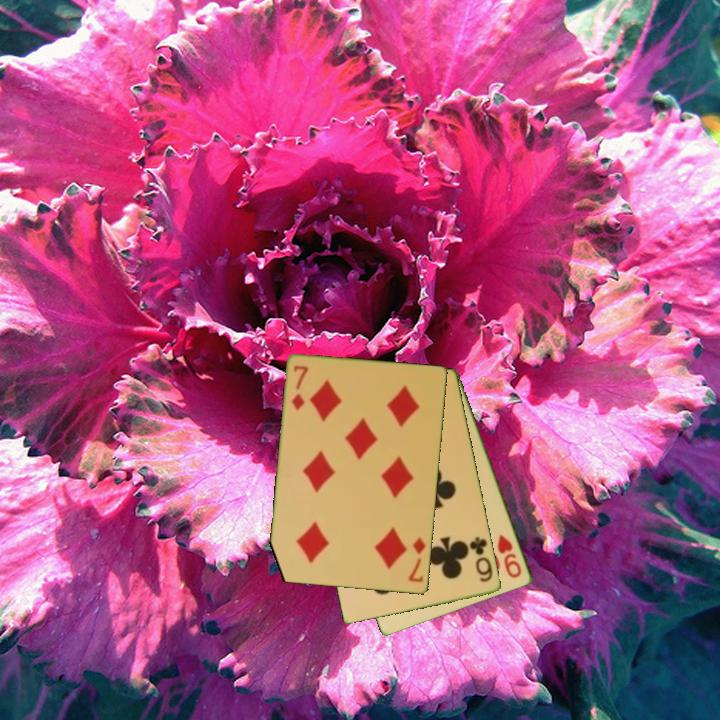6c: (466, 533, 496, 585)
7d: (405, 534, 429, 585), (288, 362, 311, 414)
9h: (494, 531, 525, 581)
